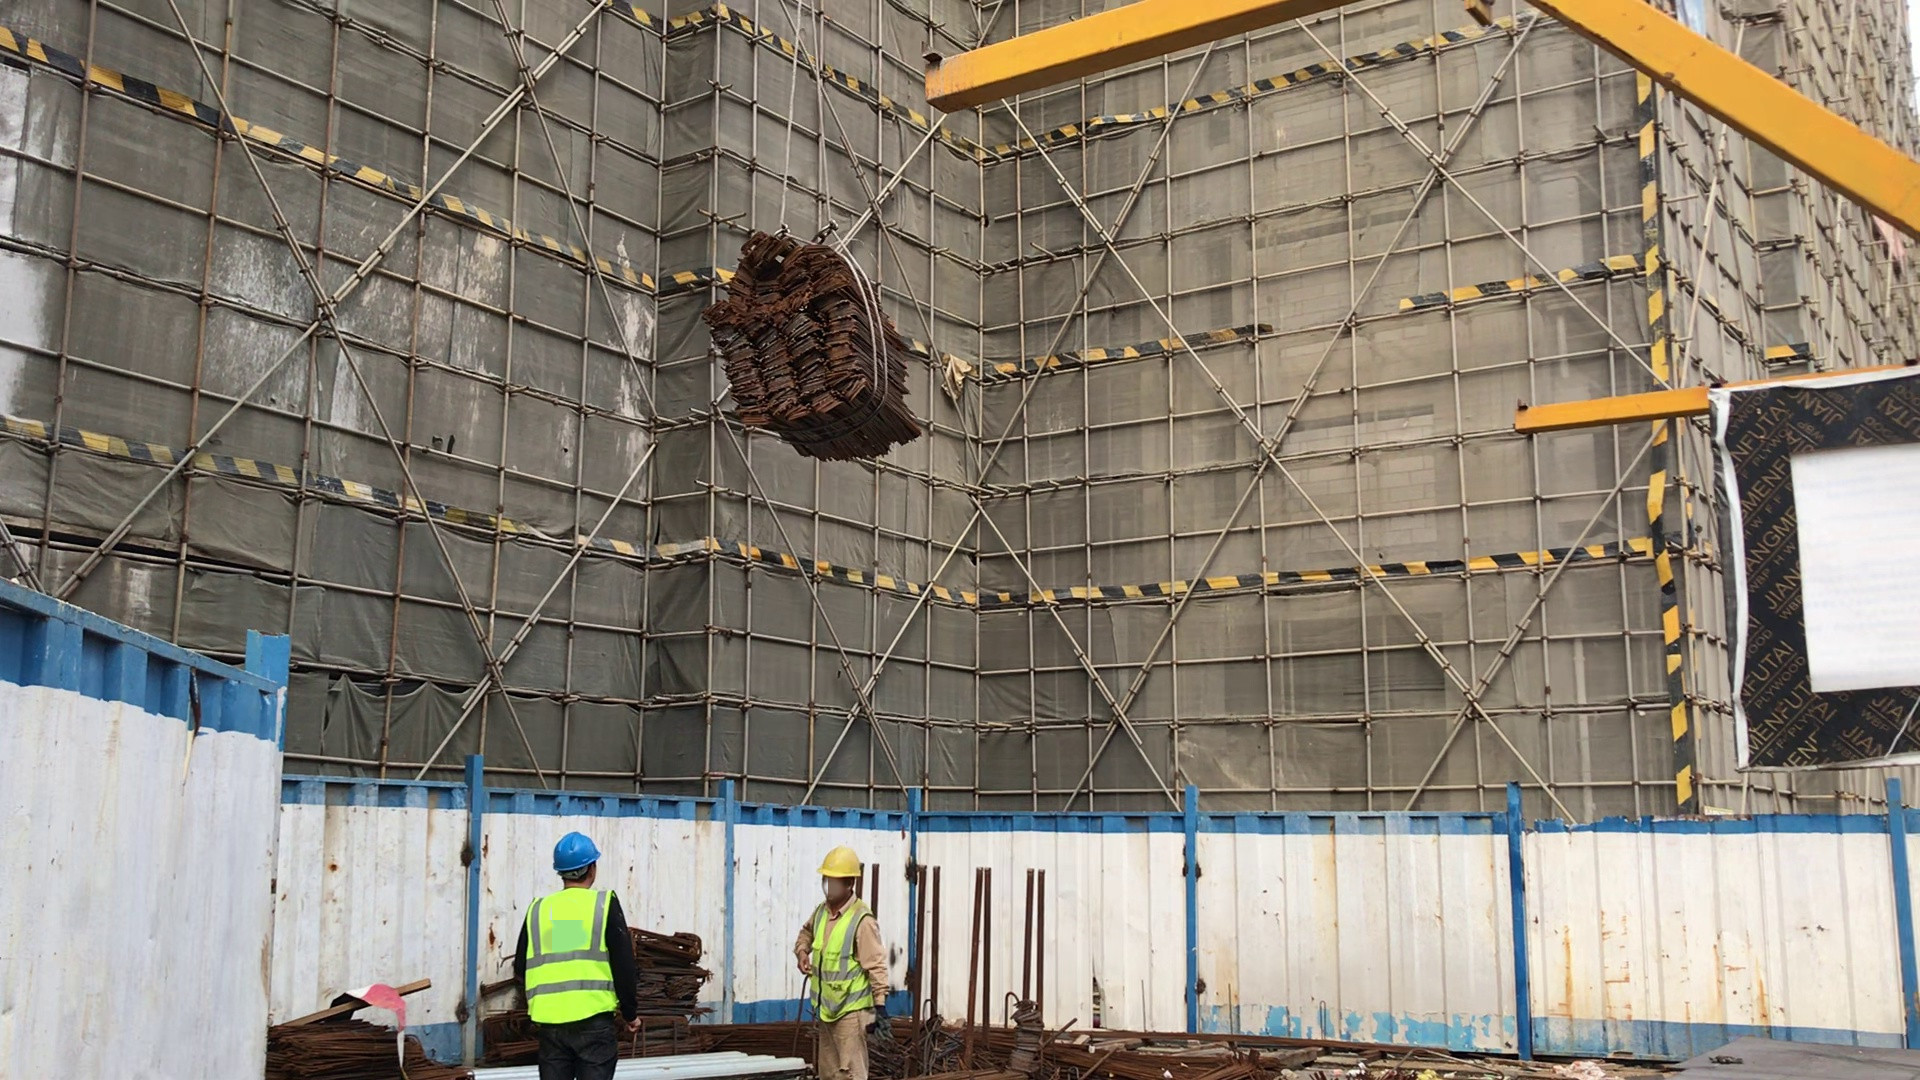helmet: (552, 829, 599, 866), (818, 844, 862, 879)
person: (511, 824, 642, 1080), (791, 845, 895, 1080)
vest: (522, 886, 625, 1015), (811, 895, 880, 1026)
